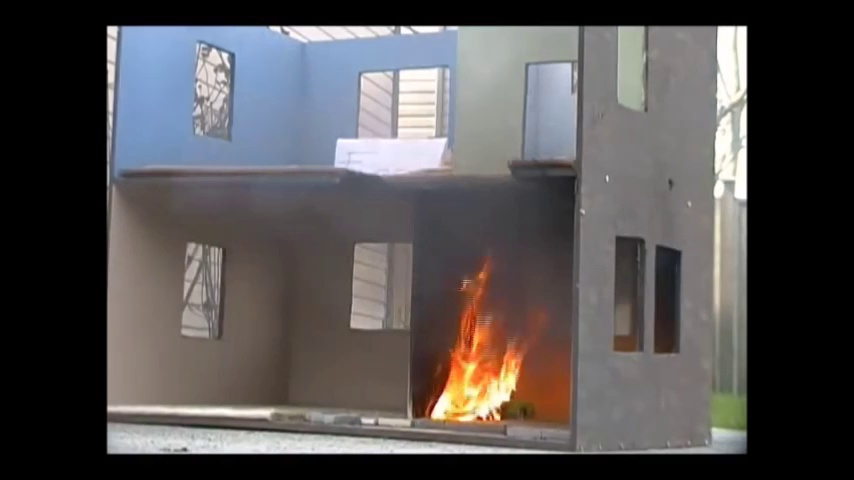fire: (426, 297, 523, 426)
